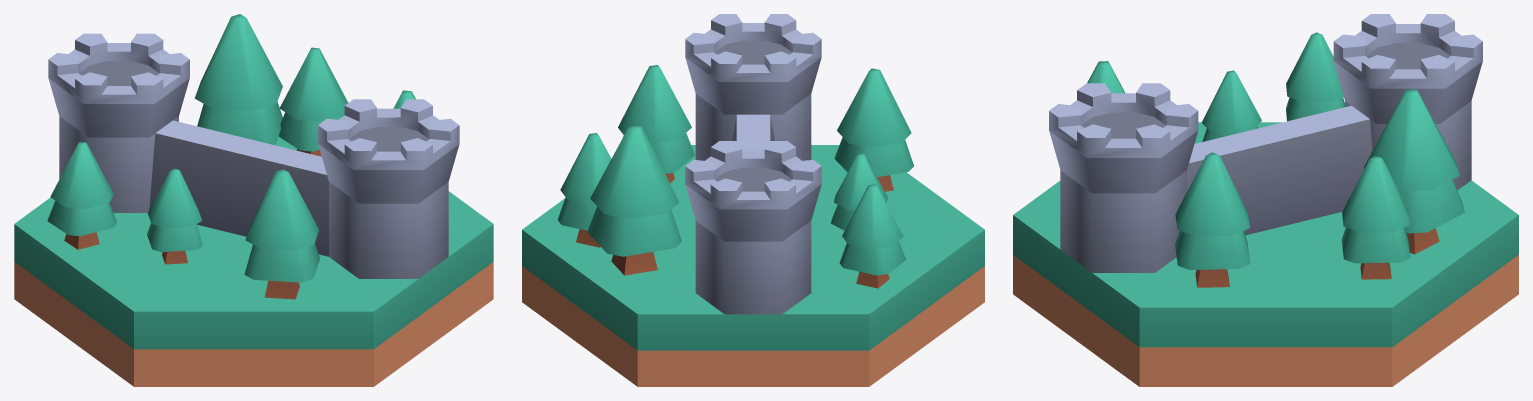
Rendered from kenney-hexagon-building-wall.glb.
The picture shows the model from 3 angles, left to right: view 1: azimuth 30°, elevation 25°; view 2: azimuth 150°, elevation 25°; view 3: azimuth 270°, elevation 25°; orthographic projection. The views are drawn at different scales.
Parts seen in each view (by area): view 1: building_wall; view 2: building_wall; view 3: building_wall.
Part boxes in pixels (<box>): building_wall: <box>14,14,493,386</box>; building_wall: <box>522,14,984,386</box>; building_wall: <box>1013,14,1518,386</box>.
Size of the model in its own units: 1 by 0.58 by 1.15.
Materials: 1 (1 with a texture image).
